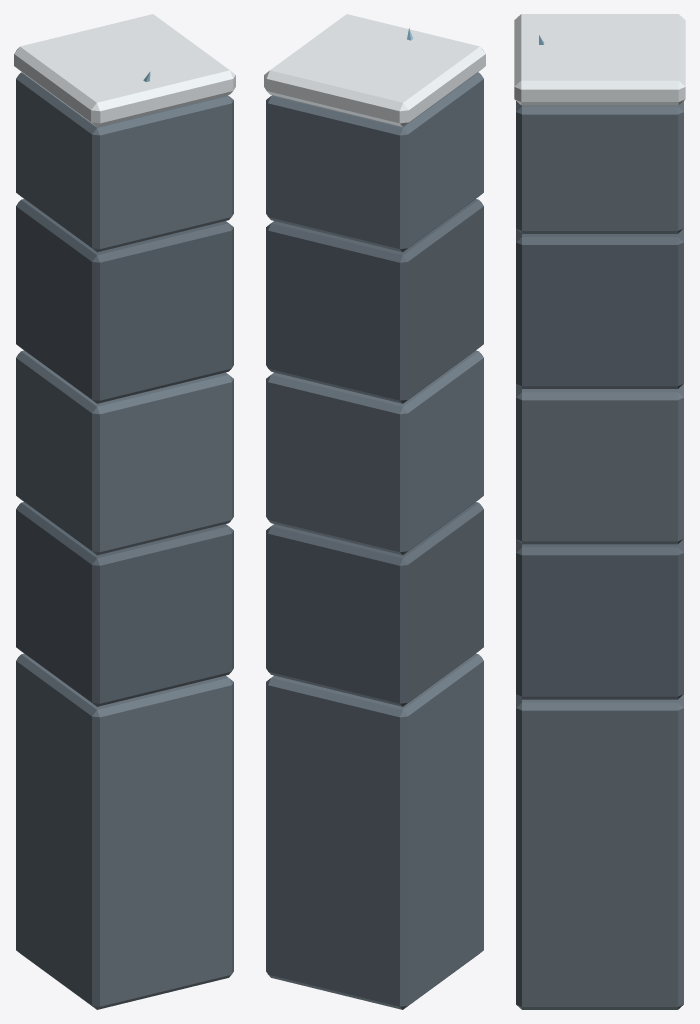
File: column-rime-5.glb
The picture shows the model from 3 angles, left to right: view 1: azimuth 30°, elevation 25°; view 2: azimuth 150°, elevation 25°; view 3: azimuth 270°, elevation 25°; orthographic projection. The views are drawn at different scales.
Parts seen in each view (by area): view 1: column-rime-5; view 2: column-rime-5; view 3: column-rime-5.
Part boxes in pixels (left/top/right/bottom): column-rime-5: left=14, top=14, right=235, bottom=1009; column-rime-5: left=264, top=14, right=485, bottom=1009; column-rime-5: left=514, top=14, right=685, bottom=1009.
Size of the model in its own units: 1 by 6.06 by 1.
